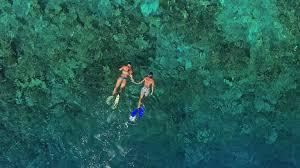Person: (103, 58, 135, 109), (129, 69, 157, 127)
